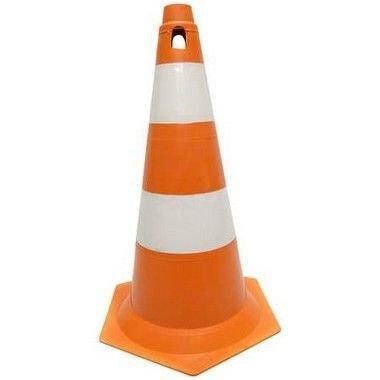traffic_cone: (98, 3, 282, 376)
